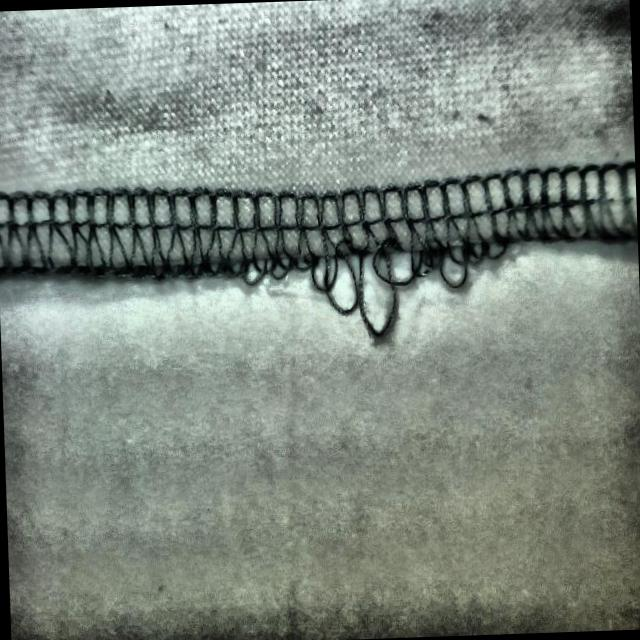gray stitch: (238, 154, 518, 342)
